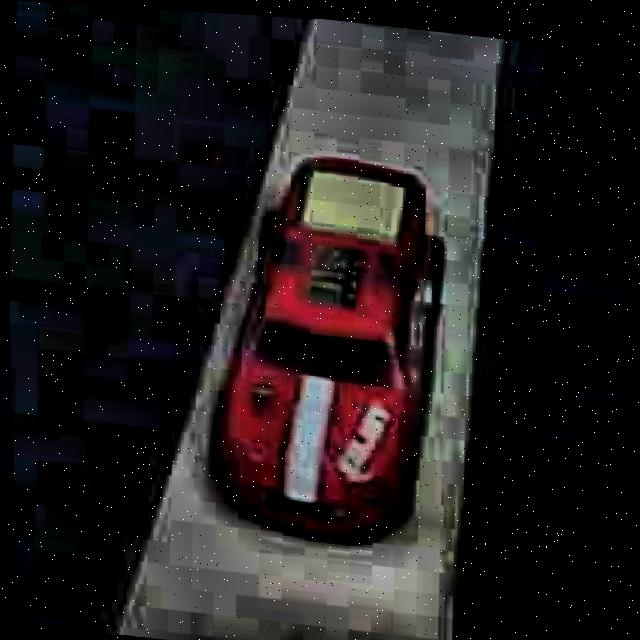car: (193, 141, 461, 564)
